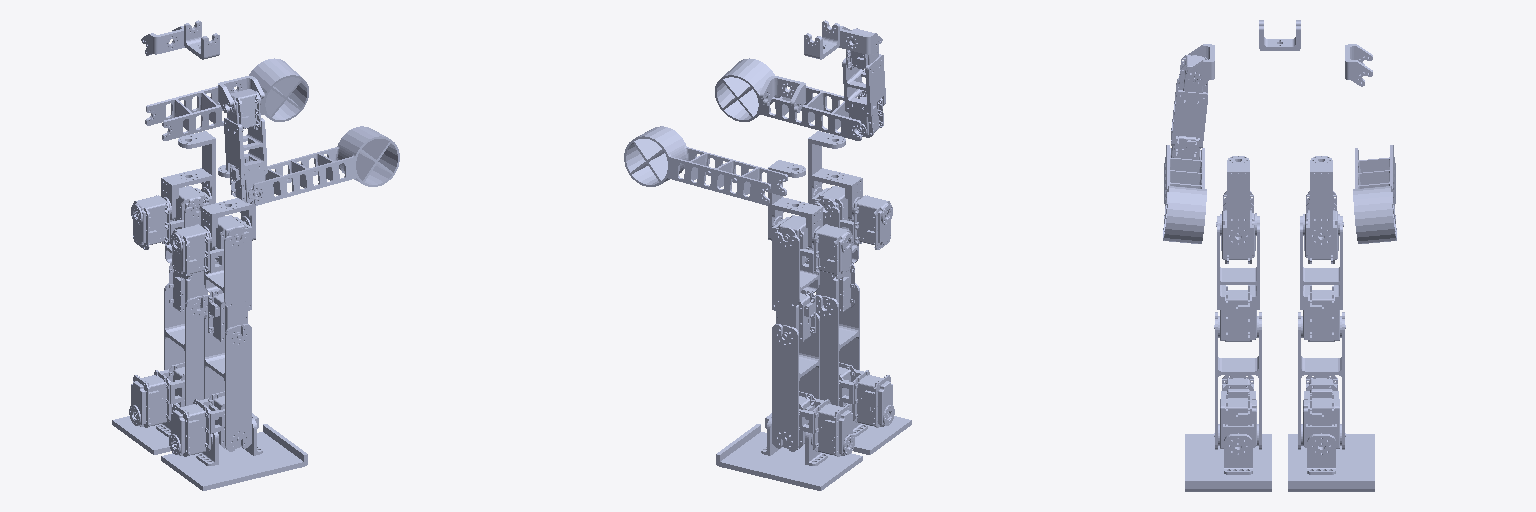
--- Render facts (derived) ---
The picture shows the robot from 3 angles, left to right: view 1: azimuth 30°, elevation 25°; view 2: azimuth 150°, elevation 25°; view 3: azimuth 270°, elevation 25°; orthographic projection.
Robot: kubot23N — 21 links, 20 joints (10 revolute, 10 fixed); root link base_link; default pose: every joint at zero.
Links seen in each view (by area): view 1: R_hand_pitch, L_hand_pitch, R_Ankle_roll, R_Knee, R_elbow_roll, R_Hip_pitch, L_Knee, R_Ankle_pitch, R_Hip_roll, L_Hip_roll, L_Ankle_pitch, L_Hip_yaw (+6 smaller); view 2: L_hand_pitch, R_hand_pitch, L_Ankle_roll, L_Knee, L_Hip_pitch, R_Knee, R_elbow_roll, L_Ankle_pitch, L_Hip_roll, R_Hip_roll, R_Ankle_pitch, R_Hip_yaw (+6 smaller); view 3: L_Ankle_roll, R_Ankle_roll, L_hand_pitch, R_hand_pitch, L_Ankle_pitch, R_Ankle_pitch, L_Hip_pitch, R_Hip_pitch, R_elbow_roll, L_Hip_yaw, R_Hip_yaw, L_Knee (+6 smaller).
Link boxes in pixels (x1=…): R_hand_pitch: x1=253, y1=126, x2=399, y2=205; L_hand_pitch: x1=145, y1=58, x2=308, y2=140; R_Ankle_roll: x1=161, y1=424, x2=307, y2=490; R_Knee: x1=204, y1=313, x2=251, y2=451; R_elbow_roll: x1=224, y1=89, x2=267, y2=202; R_Hip_pitch: x1=204, y1=232, x2=251, y2=345; L_Knee: x1=164, y1=283, x2=208, y2=405; R_Ankle_pitch: x1=169, y1=391, x2=262, y2=456; R_Hip_roll: x1=171, y1=215, x2=251, y2=279; L_Hip_roll: x1=131, y1=186, x2=211, y2=249; L_Ankle_pitch: x1=129, y1=362, x2=184, y2=427; L_Hip_yaw: x1=161, y1=131, x2=215, y2=219; L_hand_pitch: x1=624, y1=126, x2=787, y2=205; R_hand_pitch: x1=715, y1=58, x2=861, y2=140; L_Ankle_roll: x1=716, y1=424, x2=862, y2=490; L_Knee: x1=772, y1=313, x2=819, y2=451; L_Hip_pitch: x1=772, y1=232, x2=819, y2=345; R_Knee: x1=815, y1=283, x2=859, y2=405; R_elbow_roll: x1=842, y1=28, x2=885, y2=137; L_Ankle_pitch: x1=761, y1=391, x2=854, y2=456; L_Hip_roll: x1=772, y1=215, x2=852, y2=279; R_Hip_roll: x1=812, y1=186, x2=892, y2=249; R_Ankle_pitch: x1=839, y1=362, x2=894, y2=427; R_Hip_yaw: x1=808, y1=131, x2=862, y2=219; L_Ankle_roll: x1=1288, y1=434, x2=1374, y2=491; R_Ankle_roll: x1=1185, y1=434, x2=1271, y2=491; L_hand_pitch: x1=1353, y1=145, x2=1396, y2=243; R_hand_pitch: x1=1163, y1=145, x2=1206, y2=243; L_Ankle_pitch: x1=1301, y1=375, x2=1345, y2=474; R_Ankle_pitch: x1=1214, y1=375, x2=1258, y2=474; L_Hip_pitch: x1=1300, y1=216, x2=1345, y2=341; R_Hip_pitch: x1=1214, y1=216, x2=1259, y2=341; R_elbow_roll: x1=1170, y1=55, x2=1207, y2=159; L_Hip_yaw: x1=1310, y1=156, x2=1332, y2=248; R_Hip_yaw: x1=1227, y1=156, x2=1249, y2=248; L_Knee: x1=1298, y1=312, x2=1344, y2=449.
Bounding box of the posed robot: 0.2911 × 0.2945 × 0.6085 m (x, y, z).
Meshes: 21 distinct files referenced, 18 mesh visuals loaded (18 binary STL); not drawn: 3 (reference not matched to a file when rendering).

URDF robot description (kubot23N):
<?xml version="1.0" encoding="utf-8"?>
<!-- This URDF was automatically created by SolidWorks to URDF Exporter! Originally created by Stephen Brawner ([email redacted]) 
     Commit Version: 1.6.0-1-g15f4949  Build Version: 1.6.7594.29634
     For more information, please see http://wiki.ros.org/sw_urdf_exporter -->
<robot
  name="kubot23N">
  <link
    name="base_link">
    <inertial>
      <origin
        xyz="-0.01298 -0.0002287 0.10165"
        rpy="0 0 0" />
      <mass
        value="1.5013" />
      <inertia
        ixx="0.002447"
        ixy="0"
        ixz="0"
        iyy="0.0016369"
        iyz="0"
        izz="0.002646" />
    </inertial>
    <visual>
      <origin
        xyz="0 0 0"
        rpy="0 0 0" />
      <geometry>
        <mesh
          filename="../meshes/base_link.STL" />
      </geometry>
      <material
        name="">
        <color
          rgba="0.79216 0.81961 0.93333 1" />
      </material>
    </visual>
    <collision>
      <origin
        xyz="0 0 0"
        rpy="0 0 0" />
      <geometry>
        <mesh
          filename="../meshes/base_link.STL" />
      </geometry>
    </collision>
  </link>
  <link
    name="L_Hip_yaw">
    <inertial>
      <origin
        xyz="0.0079905 -7.6661E-09 0.037856"
        rpy="0 0 0" />
      <mass
        value="0.042373" />
      <inertia
        ixx="2.0934E-05"
        ixy="0"
        ixz="0"
        iyy="2.3301E-05"
        iyz="0"
        izz="8.0568E-06" />
    </inertial>
    <visual>
      <origin
        xyz="0 0 0"
        rpy="0 0 0" />
      <geometry>
        <mesh
          filename="../meshes/L_Hip_yaw.STL" />
      </geometry>
      <material
        name="">
        <color
          rgba="0.79216 0.81961 0.93333 1" />
      </material>
    </visual>
    <collision>
      <origin
        xyz="0 0 0"
        rpy="0 0 0" />
      <geometry>
        <mesh
          filename="../meshes/L_Hip_yaw.STL" />
      </geometry>
    </collision>
  </link>
  <joint
    name="L_Hip_yaw_joint"
    type="fixed">
    <origin
      xyz="0.02369 0.052535 -0.026869"
      rpy="0 0 0" />
    <parent
      link="base_link" />
    <child
      link="L_Hip_yaw" />
    <axis
      xyz="0 0 1" />
    <limit command_effort="40" current="10" effort="80" gear_velocity="10" lower="-0.01" upper="0.01" velocity="15"/>
    <dynamics damping="1.0" friction="0.1"/>
  </joint>
  <link
    name="L_Hip_roll">
    <inertial>
      <origin
        xyz="-0.026534 3.8583E-05 -0.015186"
        rpy="0 0 0" />
      <mass
        value="0.16184" />
      <inertia
        ixx="5.7094E-05"
        ixy="0"
        ixz="0"
        iyy="5.6447E-05"
        iyz="0"
        izz="3.5594E-05" />
    </inertial>
    <visual>
      <origin
        xyz="0 0 0"
        rpy="0 0 0" />
      <geometry>
        <mesh
          filename="../meshes/L_Hip_roll.STL" />
      </geometry>
      <material
        name="">
        <color
          rgba="0.79216 0.81961 0.93333 1" />
      </material>
    </visual>
    <collision>
      <origin
        xyz="0 0 0"
        rpy="0 0 0" />
      <geometry>
        <mesh
          filename="../meshes/L_Hip_roll.STL" />
      </geometry>
    </collision>
  </link>
  <joint
    name="L_Hip_roll_joint"
    type="revolute">
    <origin
      xyz="0 0 0"
      rpy="0 0 0" />
    <parent
      link="L_Hip_yaw" />
    <child
      link="L_Hip_roll" />
    <axis
      xyz="-1 0 0" />
    <limit command_effort="40" current="10" effort="80" gear_velocity="10" lower="-0.3" upper="0.175" velocity="15"/>
    <dynamics damping="1.0" friction="0.1"/>
  </joint>
  <link
    name="L_Hip_pitch">
    <inertial>
      <origin
        xyz="-0.00049308 0.00014973 -0.10339"
        rpy="0 0 0" />
      <mass
        value="0.13309" />
      <inertia
        ixx="0.00010704"
        ixy="0"
        ixz="0"
        iyy="7.9626E-05"
        iyz="0"
        izz="5.4203E-05" />
    </inertial>
    <visual>
      <origin
        xyz="0 0 0"
        rpy="0 0 0" />
      <geometry>
        <mesh
          filename="../meshes/L_Hip_pitch.STL" />
      </geometry>
      <material
        name="">
        <color
          rgba="0.79216 0.81961 0.93333 1" />
      </material>
    </visual>
    <collision>
      <origin
        xyz="0 0 0"
        rpy="0 0 0" />
      <geometry>
        <mesh
          filename="../meshes/L_Hip_pitch.STL" />
      </geometry>
    </collision>
  </link>
  <joint
    name="L_Hip_pitch_joint"
    type="revolute">
    <origin
      xyz="0 0 0"
      rpy="0 0 0" />
    <parent
      link="L_Hip_roll" />
    <child
      link="L_Hip_pitch" />
    <axis
      xyz="0 -1 0" />
    <limit command_effort="40" current="10" effort="80" gear_velocity="10" lower="-0.795" upper="2.094" velocity="15"/>
    <dynamics damping="1.0" friction="0.1"/>
  </joint>
  <link
    name="L_Knee">
    <inertial>
      <origin
        xyz="-0.0008 0.00019995 -0.071592"
        rpy="0 0 0" />
      <mass
        value="0.064192" />
      <inertia
        ixx="0.00017283"
        ixy="0"
        ixz="0"
        iyy="0.00013756"
        iyz="0"
        izz="5.3025E-05" />
    </inertial>
    <visual>
      <origin
        xyz="0 0 0"
        rpy="0 0 0" />
      <geometry>
        <mesh
          filename="../meshes/L_Knee.STL" />
      </geometry>
      <material
        name="">
        <color
          rgba="0.79216 0.81961 0.93333 1" />
      </material>
    </visual>
    <collision>
      <origin
        xyz="0 0 0"
        rpy="0 0 0" />
      <geometry>
        <mesh
          filename="../meshes/L_Knee.STL" />
      </geometry>
    </collision>
  </link>
  <joint
    name="L_Knee_joint"
    type="revolute">
    <origin
      xyz="0 0 -0.142"
      rpy="0 0 0" />
    <parent
      link="L_Hip_pitch" />
    <child
      link="L_Knee" />
    <axis
      xyz="0 -1 0" />
    <limit command_effort="40" current="10" effort="80" gear_velocity="10" lower="-1" upper="0.5" velocity="15"/>
    <dynamics damping="1.0" friction="0.1"/>
  </joint>
  <link
    name="L_Ankle_pitch">
    <inertial>
      <origin
        xyz="-0.023428 0.00014941 0.013986"
        rpy="0 0 0" />
      <mass
        value="0.202" />
      <inertia
        ixx="8.0067E-05"
        ixy="0"
        ixz="0"
        iyy="7.8271E-05"
        iyz="0"
        izz="4.9146E-05" />
    </inertial>
    <visual>
      <origin
        xyz="0 0 0"
        rpy="0 0 0" />
      <geometry>
        <mesh
          filename="../meshes/L_Ankle_pitch.STL" />
      </geometry>
      <material
        name="">
        <color
          rgba="0.79216 0.81961 0.93333 1" />
      </material>
    </visual>
    <collision>
      <origin
        xyz="0 0 0"
        rpy="0 0 0" />
      <geometry>
        <mesh
          filename="../meshes/L_Ankle_pitch.STL" />
      </geometry>
    </collision>
  </link>
  <joint
    name="L_Ankle_pitch_joint"
    type="revolute">
    <origin
      xyz="0 0 -0.15"
      rpy="0 0 0" />
    <parent
      link="L_Knee" />
    <child
      link="L_Ankle_pitch" />
    <axis
      xyz="0 -1 0" />
    <limit command_effort="40" current="10" effort="80" gear_velocity="10" lower="-0.3" upper="0.6" velocity="15"/>
    <dynamics damping="1.0" friction="0.1"/>
  </joint>
  <link
    name="L_Ankle_roll">
    <inertial>
      <origin
        xyz="0.0032401 0.011838 -0.036203"
        rpy="0 0 0" />
      <mass
        value="0.13947" />
      <inertia
        ixx="0.00013469"
        ixy="0"
        ixz="0"
        iyy="0.00029939"
        iyz="0"
        izz="0.0004274" />
    </inertial>
    <visual>
      <origin
        xyz="0 0 0"
        rpy="0 0 0" />
      <geometry>
        <mesh
          filename="../meshes/L_Ankle_roll.STL" />
      </geometry>
      <material
        name="">
        <color
          rgba="0.79216 0.81961 0.93333 1" />
      </material>
    </visual>
    <collision>
      <origin
        xyz="0 0 0"
        rpy="0 0 0" />
      <geometry>
        <mesh
          filename="../meshes/L_Ankle_roll.STL" />
      </geometry>
    </collision>
  </link>
  <joint
    name="L_Ankle_roll_joint"
    type="revolute">
    <origin
      xyz="0 0 0"
      rpy="0 0 0" />
    <parent
      link="L_Ankle_pitch" />
    <child
      link="L_Ankle_roll" />
    <axis
      xyz="-1 0 0" />
    <limit command_effort="40" current="10" effort="80" gear_velocity="10" lower="-0.4" upper="0.4" velocity="15"/>
    <dynamics damping="0.707" friction="0.1"/>
  </joint>
  <link
    name="R_Hip_yaw">
    <inertial>
      <origin
        xyz="0.0079905 -7.6661E-09 0.037856"
        rpy="0 0 0" />
      <mass
        value="0.042373" />
      <inertia
        ixx="2.0934E-05"
        ixy="0"
        ixz="0"
        iyy="2.3301E-05"
        iyz="0"
        izz="8.0568E-06" />
    </inertial>
    <visual>
      <origin
        xyz="0 0 0"
        rpy="0 0 0" />
      <geometry>
        <mesh
          filename="../meshes/R_Hip_yaw.STL" />
      </geometry>
      <material
        name="">
        <color
          rgba="0.79216 0.81961 0.93333 1" />
      </material>
    </visual>
    <collision>
      <origin
        xyz="0 0 0"
        rpy="0 0 0" />
      <geometry>
        <mesh
          filename="../meshes/R_Hip_yaw.STL" />
      </geometry>
    </collision>
  </link>
  <joint
    name="R_Hip_yaw_joint"
    type="fixed">
    <origin
      xyz="0.02369 -0.052065 -0.026869"
      rpy="0 0 0" />
    <parent
      link="base_link" />
    <child
      link="R_Hip_yaw" />
    <axis
      xyz="0 0 1" />
    <limit command_effort="40" current="10" effort="80" gear_velocity="10" lower="-0.1" upper="0.1" velocity="15"/>
    <dynamics damping="0.707" friction="0.1"/>
  </joint>
  <link
    name="R_Hip_roll">
    <inertial>
      <origin
        xyz="-0.026534 -3.8624E-05 -0.015186"
        rpy="0 0 0" />
      <mass
        value="0.16184" />
      <inertia
        ixx="5.7094E-05"
        ixy="0"
        ixz="0"
        iyy="5.6447E-05"
        iyz="0"
        izz="3.5594E-05" />
    </inertial>
    <visual>
      <origin
        xyz="0 0 0"
        rpy="0 0 0" />
      <geometry>
        <mesh
          filename="../meshes/R_Hip_roll.STL" />
      </geometry>
      <material
        name="">
        <color
          rgba="0.79216 0.81961 0.93333 1" />
      </material>
    </visual>
    <collision>
      <origin
        xyz="0 0 0"
        rpy="0 0 0" />
      <geometry>
        <mesh
          filename="../meshes/R_Hip_roll.STL" />
      </geometry>
    </collision>
  </link>
  <joint
    name="R_Hip_roll_joint"
    type="revolute">
    <origin
      xyz="0 0 0"
      rpy="0 0 0" />
    <parent
      link="R_Hip_yaw" />
    <child
      link="R_Hip_roll" />
    <axis
      xyz="-1 0 0" />
    <limit command_effort="40" current="10" effort="80" gear_velocity="10" lower="-0.175" upper="0.3" velocity="15"/>
    <dynamics damping="1.0" friction="0.1"/>
  </joint>
  <link
    name="R_Hip_pitch">
    <inertial>
      <origin
        xyz="-0.0004978 -0.00014979 -0.10339"
        rpy="0 0 0" />
      <mass
        value="0.13309" />
      <inertia
        ixx="0.00010704"
        ixy="0"
        ixz="0"
        iyy="7.9626E-05"
        iyz="0"
        izz="5.4203E-05" />
    </inertial>
    <visual>
      <origin
        xyz="0 0 0"
        rpy="0 0 0" />
      <geometry>
        <mesh
          filename="../meshes/R_Hip_pitch.STL" />
      </geometry>
      <material
        name="">
        <color
          rgba="0.79216 0.81961 0.93333 1" />
      </material>
    </visual>
    <collision>
      <origin
        xyz="0 0 0"
        rpy="0 0 0" />
      <geometry>
        <mesh
          filename="../meshes/R_Hip_pitch.STL" />
      </geometry>
    </collision>
  </link>
  <joint
    name="R_Hip_pitch_joint"
    type="revolute">
    <origin
      xyz="0 0 0"
      rpy="0 0 0" />
    <parent
      link="R_Hip_roll" />
    <child
      link="R_Hip_pitch" />
    <axis
      xyz="0 1 0" />
    <limit command_effort="40" current="10" effort="80" gear_velocity="10" lower="-2.094" upper="0.795" velocity="15"/>
    <dynamics damping="1.0" friction="0.1"/>
  </joint>
  <link
    name="R_Knee">
    <inertial>
      <origin
        xyz="-0.0008 -0.00020005 -0.071592"
        rpy="0 0 0" />
      <mass
        value="0.064192" />
      <inertia
        ixx="0.00017283"
        ixy="0"
        ixz="0"
        iyy="0.00013756"
        iyz="0"
        izz="5.3025E-05" />
    </inertial>
    <visual>
      <origin
        xyz="0 0 0"
        rpy="0 0 0" />
      <geometry>
        <mesh
          filename="../meshes/R_Knee.STL" />
      </geometry>
      <material
        name="">
        <color
          rgba="0.79216 0.81961 0.93333 1" />
      </material>
    </visual>
    <collision>
      <origin
        xyz="0 0 0"
        rpy="0 0 0" />
      <geometry>
        <mesh
          filename="../meshes/R_Knee.STL" />
      </geometry>
    </collision>
  </link>
  <joint
    name="R_Knee_joint"
    type="revolute">
    <origin
      xyz="0 0 -0.142"
      rpy="0 0 0" />
    <parent
      link="R_Hip_pitch" />
    <child
      link="R_Knee" />
    <axis
      xyz="0 1 0" />
    <limit command_effort="40" current="10" effort="80" gear_velocity="10" lower="-0.5" upper="1.0" velocity="15"/>
    <dynamics damping="1.0" friction="0.1"/>
  </joint>
  <link
    name="R_Ankle_pitch">
    <inertial>
      <origin
        xyz="-0.023731 -0.00015295 0.01407"
        rpy="0 0 0" />
      <mass
        value="0.20079" />
      <inertia
        ixx="7.9929E-05"
        ixy="0"
        ixz="0"
        iyy="7.8201E-05"
        iyz="0"
        izz="4.9077E-05" />
    </inertial>
    <visual>
      <origin
        xyz="0 0 0"
        rpy="0 0 0" />
      <geometry>
        <mesh
          filename="../meshes/R_Ankle_pitch.STL" />
      </geometry>
      <material
        name="">
        <color
          rgba="0.79216 0.81961 0.93333 1" />
      </material>
    </visual>
    <collision>
      <origin
        xyz="0 0 0"
        rpy="0 0 0" />
      <geometry>
        <mesh
          filename="../meshes/R_Ankle_pitch.STL" />
      </geometry>
    </collision>
  </link>
  <joint
    name="R_Ankle_pitch_joint"
    type="revolute">
    <origin
      xyz="0 0 -0.15"
      rpy="0 0 0" />
    <parent
      link="R_Knee" />
    <child
      link="R_Ankle_pitch" />
    <axis
      xyz="0 1 0" />
    <limit command_effort="40" current="10" effort="80" gear_velocity="10" lower="-0.6" upper="0.3" velocity="15"/>
    <dynamics damping="1.0" friction="0.1"/>
  </joint>
  <link
    name="R_Ankle_roll">
    <inertial>
      <origin
        xyz="0.0032401 -0.011838 -0.036203"
        rpy="0 0 0" />
      <mass
        value="0.13947" />
      <inertia
        ixx="0.00013469"
        ixy="0"
        ixz="0"
        iyy="0.00029939"
        iyz="0"
        izz="0.0004274" />
    </inertial>
    <visual>
      <origin
        xyz="0 0 0"
        rpy="0 0 0" />
      <geometry>
        <mesh
          filename="../meshes/R_Ankle_roll.STL" />
      </geometry>
      <material
        name="">
        <color
          rgba="0.79216 0.81961 0.93333 1" />
      </material>
    </visual>
    <collision>
      <origin
        xyz="0 0 0"
        rpy="0 0 0" />
      <geometry>
        <mesh
          filename="../meshes/R_Ankle_roll.STL" />
      </geometry>
    </collision>
  </link>
  <joint
    name="R_Ankle_roll_joint"
    type="revolute">
    <origin
      xyz="0 0 0"
      rpy="0 0 0" />
    <parent
      link="R_Ankle_pitch" />
    <child
      link="R_Ankle_roll" />
    <axis
      xyz="-1 0 0" />
    <limit command_effort="40" current="10" effort="80" gear_velocity="10" lower="-0.4" upper="0.4" velocity="15"/>
    <dynamics damping="0.707" friction="0.1"/>
  </joint>
  <link
    name="L_shoulder_pitch">
    <inertial>
      <origin
        xyz="-5.0536E-10 0.010248 -0.0016377"
        rpy="0 0 0" />
      <mass
        value="0.01447" />
      <inertia
        ixx="2.0393E-06"
        ixy="0"
        ixz="0"
        iyy="6.5772E-06"
        iyz="0"
        izz="6.757E-06" />
    </inertial>
    <visual>
      <origin
        xyz="0 0 0"
        rpy="0 0 0" />
      <geometry>
        <mesh
          filename="../meshes/L_shoulder_pitch.STL" />
      </geometry>
      <material
        name="">
        <color
          rgba="0.79216 0.81961 0.93333 1" />
      </material>
    </visual>
    <collision>
      <origin
        xyz="0 0 0"
        rpy="0 0 0" />
      <geometry>
        <mesh
          filename="../meshes/L_shoulder_pitch.STL" />
      </geometry>
    </collision>
  </link>
  <joint
    name="L_shoulder_pitch_joint"
    type="fixed">
    <origin
      xyz="0.01519 0.081985 0.19521"
      rpy="0 0 0" />
    <parent
      link="base_link" />
    <child
      link="L_shoulder_pitch" />
    <axis
      xyz="0 -1 0" />
    <limit command_effort="40" current="10" effort="80" gear_velocity="10" lower="-0.05" upper="0.05" velocity="15"/>
    <dynamics damping="0.707" friction="0.1"/>
  </joint>
  <link
    name="L_elbow_roll">
    <inertial>
      <origin
        xyz="-0.02074 1.0222E-05 -0.061881"
        rpy="0 0 0" />
      <mass
        value="0.12312" />
      <inertia
        ixx="4.1405E-05"
        ixy="0"
        ixz="0"
        iyy="4.4134E-05"
        iyz="0"
        izz="2.9326E-05" />
    </inertial>
    <visual>
      <origin
        xyz="0 0 0"
        rpy="0 0 0" />
      <geometry>
        <mesh
          filename="../meshes/L_elbow_roll.STL" />
      </geometry>
      <material
        name="">
        <color
          rgba="0.79216 0.81961 0.93333 1" />
      </material>
    </visual>
    <collision>
      <origin
        xyz="0 0 0"
        rpy="0 0 0" />
      <geometry>
        <mesh
          filename="../meshes/L_elbow_roll.STL" />
      </geometry>
    </collision>
  </link>
  <joint
    name="L_elbow_roll_joint"
    type="fixed">
    <origin
      xyz="0.020275 0.025656 -0.01045"
      rpy="0.1 0 0" />
    <parent
      link="L_shoulder_pitch" />
    <child
      link="L_elbow_roll" />
    <axis
      xyz="-1 0 0" />
    <limit command_effort="40" current="10" effort="80" gear_velocity="10" lower="-0.1" upper="0.03" velocity="15"/>
    <dynamics damping="1.0" friction="0.1"/>
  </joint>
  <link
    name="L_hand_pitch">
    <inertial>
      <origin
        xyz="-2.6021E-15 -0.020275 -0.13605"
        rpy="0 0 0" />
      <mass
        value="0.085842" />
      <inertia
        ixx="0.00035605"
        ixy="0"
        ixz="0"
        iyy="0.00035569"
        iyz="0"
        izz="4.765E-05" />
    </inertial>
    <visual>
      <origin
        xyz="0 0 0"
        rpy="0 0 0" />
      <geometry>
        <mesh
          filename="../meshes/L_hand_pitch.STL" />
      </geometry>
      <material
        name="">
        <color
          rgba="0.79216 0.81961 0.93333 1" />
      </material>
    </visual>
    <collision>
      <origin
        xyz="0 0 0"
        rpy="0 0 0" />
      <geometry>
        <mesh
          filename="../meshes/L_hand_pitch.STL" />
      </geometry>
    </collision>
  </link>
  <joint
    name="L_hand_pitch_joint"
    type="fixed">
    <origin
      xyz="-0.02075 0.02075 -0.1231"
      rpy="0 -1.6 0" />
    <parent
      link="L_elbow_roll" />
    <child
      link="L_hand_pitch" />
    <axis
      xyz="0 -1 0" />
    <limit command_effort="40" current="10" effort="80" gear_velocity="10" lower="-0.01" upper="0.03" velocity="15"/>
    <dynamics damping="0.707" friction="0.1"/>
  </joint>
  <link
    name="R_shoulder_pitch">
    <inertial>
      <origin
        xyz="5.0536E-10 -0.010248 -0.0016377"
        rpy="0 0 0" />
      <mass
        value="0.01447" />
      <inertia
        ixx="2.0393E-06"
        ixy="0"
        ixz="0"
        iyy="6.5772E-06"
        iyz="0"
        izz="6.757E-06" />
    </inertial>
    <visual>
      <origin
        xyz="0 0 0"
        rpy="0 0 0" />
      <geometry>
        <mesh
          filename="../meshes/R_shoulder_pitch.STL" />
      </geometry>
      <material
        name="">
        <color
          rgba="0.79216 0.81961 0.93333 1" />
      </material>
    </visual>
    <collision>
      <origin
        xyz="0 0 0"
        rpy="0 0 0" />
      <geometry>
        <mesh
          filename="../meshes/R_shoulder_pitch.STL" />
      </geometry>
    </collision>
  </link>
  <joint
    name="R_shoulder_pitch_joint"
    type="fixed">
    <origin
      xyz="0.01519 -0.081515 0.19521"
      rpy="0 0 0" />
    <parent
      link="base_link" />
    <child
      link="R_shoulder_pitch" />
    <axis
      xyz="0 1 0" />
    <limit command_effort="40" current="10" effort="80" gear_velocity="10" lower="-0.05" upper="0.05" velocity="15"/>
    <dynamics damping="0.707" friction="0.1"/>
  </joint>
  <link
    name="R_elbow_roll">
    <inertial>
      <origin
        xyz="-0.020741 -8.8027E-06 -0.061881"
        rpy="0 0 0" />
      <mass
        value="0.12312" />
      <inertia
        ixx="4.1405E-05"
        ixy="0"
        ixz="0"
        iyy="4.4134E-05"
        iyz="0"
        izz="2.9326E-05" />
    </inertial>
    <visual>
      <origin
        xyz="0 0 0"
        rpy="0 0 0" />
      <geometry>
        <mesh
          filename="../meshes/R_elbow_roll.STL" />
      </geometry>
      <material
        name="">
        <color
          rgba="0.79216 0.81961 0.93333 1" />
      </material>
    </visual>
    <collision>
      <origin
        xyz="0 0 0"
        rpy="0 0 0" />
      <geometry>
        <mesh
          filename="../meshes/R_elbow_roll.STL" />
      </geometry>
    </collision>
  </link>
  <joint
    name="R_elbow_roll_joint"
    type="fixed">
    <origin
      xyz="0.020275 -0.025656 -0.01045"
      rpy="-0.1 0 0" />
    <parent
      link="R_shoulder_pitch" />
    <child
      link="R_elbow_roll" />
    <axis
      xyz="-1 0 0" />
    <limit command_effort="40" current="10" effort="80" gear_velocity="10" lower="-0.03" upper="0.1" velocity="15"/>
    <dynamics damping="1.0" friction="0.1"/>
  </joint>
  <link
    name="R_hand_pitch">
    <inertial>
      <origin
        xyz="-4.8572E-16 0.020275 -0.13605"
        rpy="0 0 0" />
      <mass
        value="0.085842" />
      <inertia
        ixx="0.00035605"
        ixy="0"
        ixz="0"
        iyy="0.00035569"
        iyz="0"
        izz="4.765E-05" />
    </inertial>
    <visual>
      <origin
        xyz="0 0 0"
        rpy="0 0 0" />
      <geometry>
        <mesh
          filename="../meshes/R_hand_pitch.STL" />
      </geometry>
      <material
        name="">
        <color
          rgba="0.79216 0.81961 0.93333 1" />
      </material>
    </visual>
    <collision>
      <origin
        xyz="0 0 0"
        rpy="0 0 0" />
      <geometry>
        <mesh
          filename="../meshes/R_hand_pitch.STL" />
      </geometry>
    </collision>
  </link>
  <joint
    name="R_hand_pitch_joint"
    type="fixed">
    <origin
      xyz="-0.02075 -0.02075 -0.1231"
      rpy="0 -1.6 0" />
    <parent
      link="R_elbow_roll" />
    <child
      link="R_hand_pitch" />
    <axis
      xyz="0 1 0" />
    <limit command_effort="40" current="10" effort="80" gear_velocity="10" lower="-0.03" upper="0.01" velocity="15"/>
    <dynamics damping="0.707" friction="0.1"/>
  </joint>
  <link
    name="Neck_yaw">
    <inertial>
      <origin
        xyz="1.027E-15 2.3592E-16 0.010333"
        rpy="0 0 0" />
      <mass
        value="0.014237" />
      <inertia
        ixx="6.6446E-06"
        ixy="0"
        ixz="0"
        iyy="1.9564E-06"
        iyz="0"
        izz="6.2867E-06" />
    </inertial>
    <visual>
      <origin
        xyz="0 0 0"
        rpy="0 0 0" />
      <geometry>
        <mesh
          filename="../meshes/Neck_yaw.STL" />
      </geometry>
      <material
        name="">
        <color
          rgba="0.79216 0.81961 0.93333 1" />
      </material>
    </visual>
    <collision>
      <origin
        xyz="0 0 0"
        rpy="0 0 0" />
      <geometry>
        <mesh
          filename="../meshes/Neck_yaw.STL" />
      </geometry>
    </collision>
  </link>
  <joint
    name="Neck_yaw_joint"
    type="fixed">
    <origin
      xyz="0.01344 0.00023493 0.21516"
      rpy="0 0 0" />
    <parent
      link="base_link" />
    <child
      link="Neck_yaw" />
    <axis
      xyz="0 0 -1" />
    <limit command_effort="40" current="10" effort="80" gear_velocity="10" lower="-0.01" upper="0.01" velocity="15"/>
    <dynamics damping="0.707" friction="0.1"/>
  </joint>
  <link
    name="head_pitch">
    <inertial>
      <origin
        xyz="-0.00087615 -0.00049281 0.038502"
        rpy="0 0 0" />
      <mass
        value="0.14082" />
      <inertia
        ixx="0.0001309"
        ixy="0"
        ixz="0"
        iyy="2.5779E-05"
        iyz="0"
        izz="0.00012811" />
    </inertial>
    <visual>
      <origin
        xyz="0 0 0"
        rpy="0 0 0" />
      <geometry>
        <mesh
          filename="../meshes/head_pitch.STL" />
      </geometry>
      <material
        name="">
        <color
          rgba="0.79216 0.81961 0.93333 1" />
      </material>
    </visual>
    <collision>
      <origin
        xyz="0 0 0"
        rpy="0 0 0" />
      <geometry>
        <mesh
          filename="../meshes/head_pitch.STL" />
      </geometry>
    </collision>
  </link>
  <joint
    name="head_pitch_joint"
    type="fixed">
    <origin
      xyz="0 0 0.0275"
      rpy="0 0 0" />
    <parent
      link="Neck_yaw" />
    <child
      link="head_pitch" />
    <axis
      xyz="0 1 0" />
    <limit command_effort="40" current="10" effort="80" gear_velocity="10" lower="-0.01" upper="0.01" velocity="15"/>
    <dynamics damping="0.707" friction="0.1"/>
  </joint>
</robot>
